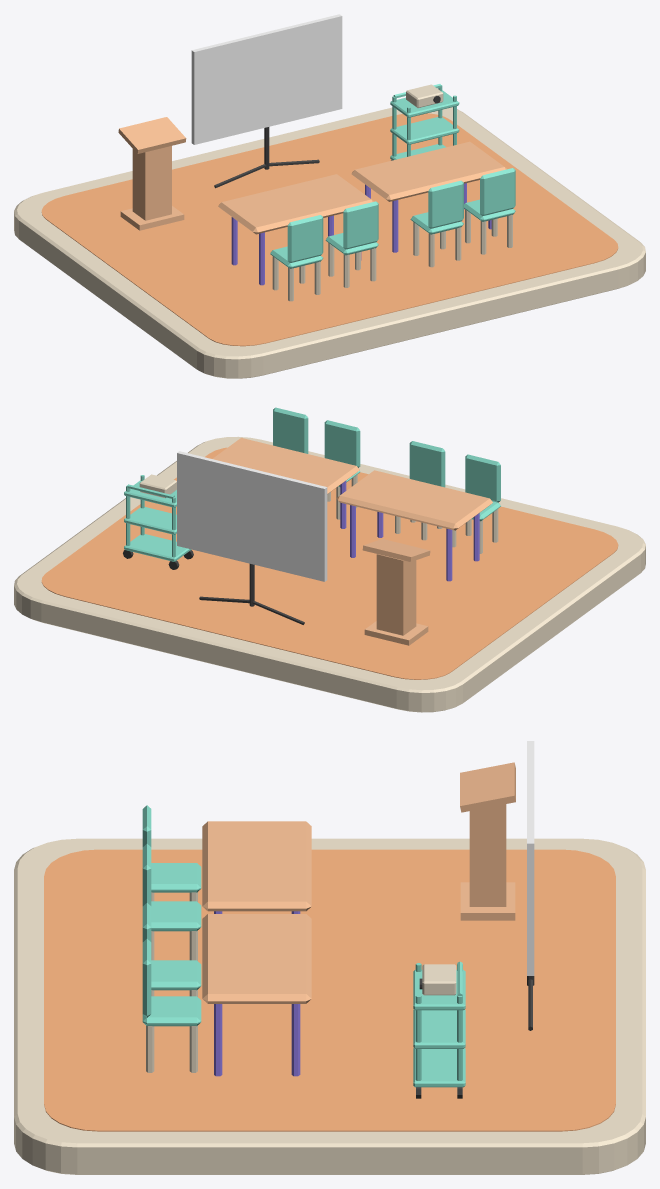
Rendered from room.fbx.
The picture shows the model from 3 angles, top to bottom: view 1: azimuth 30°, elevation 25°; view 2: azimuth 150°, elevation 25°; view 3: azimuth 270°, elevation 25°; orthographic projection. The views are drawn at different scales.
Parts seen in each view (by area): view 1: COM-02 Floor Surface, COM-01 Rounded Base Direct, Screen, Rounded table top.001, Rounded table top, Body, Reading top, Backrest, Backrest.002, Backrest.003, Backrest.001, Tray.001 (+3 smaller); view 2: COM-02 Floor Surface, COM-01 Rounded Base Direct, Screen, Rounded table top, Rounded table top.001, Body, Backrest.002, Backrest.001, Backrest, Backrest.003, Tray, Reading top (+4 smaller); view 3: COM-02 Floor Surface, COM-01 Rounded Base Direct, Rounded table top, Rounded table top.001, Body, Reading top, Screen, Tray, Tray.001, Seat.003, Seat.001, Seat.002 (+7 smaller).
Part boxes in pixels (box(x1,y1,x2,y2)): COM-02 Floor Surface: box(41, 113, 618, 346); COM-01 Rounded Base Direct: box(14, 107, 645, 378); Screen: box(191, 14, 342, 144); Rounded table top.001: box(351, 141, 506, 201); Rounded table top: box(218, 174, 373, 234); Body: box(132, 146, 171, 220); Reading top: box(118, 117, 186, 153); Backrest: box(287, 215, 323, 262); Backrest.002: box(428, 180, 463, 228); Backrest.003: box(480, 168, 515, 216); Backrest.001: box(343, 201, 378, 249); Tray.001: box(390, 117, 459, 144); COM-02 Floor Surface: box(41, 447, 618, 679); COM-01 Rounded Base Direct: box(14, 436, 645, 712); Screen: box(177, 451, 327, 581); Rounded table top: box(336, 470, 492, 530); Rounded table top.001: box(212, 438, 359, 493); Body: box(376, 554, 416, 635); Backrest.002: box(324, 420, 360, 467); Backrest.001: box(409, 441, 445, 487); Backrest: box(465, 454, 500, 502); Backrest.003: box(273, 407, 308, 453); Tray: box(124, 534, 191, 561); Reading top: box(362, 539, 430, 561); COM-02 Floor Surface: box(44, 849, 615, 1131); COM-01 Rounded Base Direct: box(14, 838, 645, 1174); Rounded table top: box(202, 821, 311, 911); Rounded table top.001: box(202, 914, 311, 1003); Body: box(469, 804, 506, 906); Reading top: box(460, 762, 515, 812); Screen: box(527, 741, 534, 975); Tray: box(413, 1048, 465, 1087); Tray.001: box(413, 1009, 465, 1048); Seat.003: box(142, 996, 201, 1026); Seat.001: box(151, 901, 201, 931); Seat.002: box(151, 960, 201, 990).
Bounding box in the file's own units: 600 × 214 × 520.
